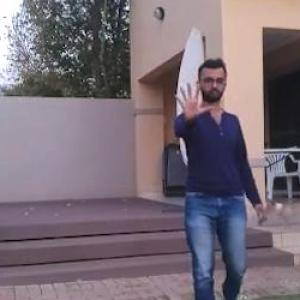follow_hand: (172, 77, 216, 125)
